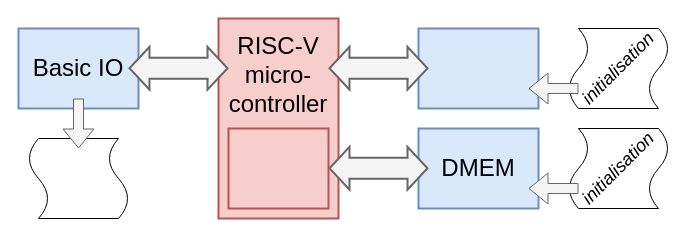
Image size: 686x236. Some labels were removed from this diagram. The centre of each missing label's shape, as x and y in pixels:
"IMEM" belongs at pixel 478 68.
"recording" belongs at pixel 78 178.
"RISC-V micro- processor" belongs at pixel 278 168.
